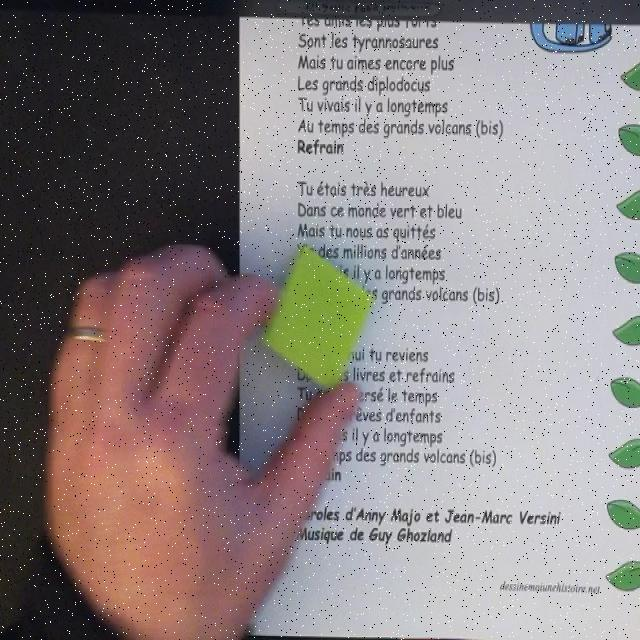square: (264, 247, 376, 391)
